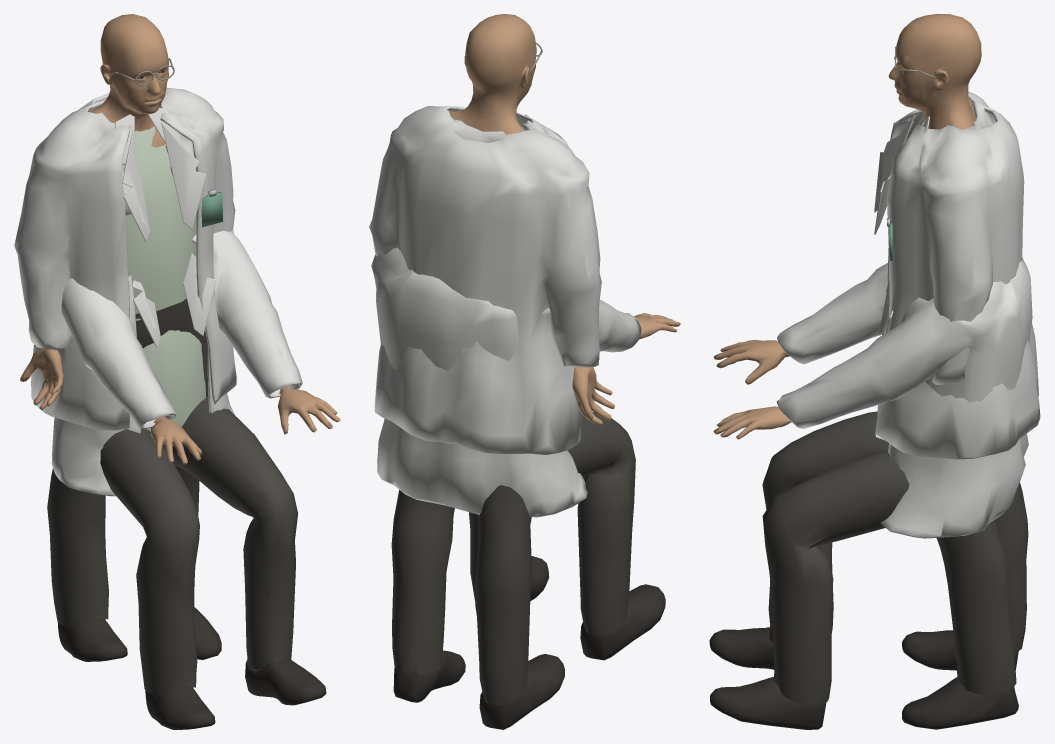
File: doctor-08-middle.glb
The picture shows the model from 3 angles, left to right: view 1: azimuth 30°, elevation 25°; view 2: azimuth 150°, elevation 25°; view 3: azimuth 270°, elevation 25°; orthographic projection. The views are drawn at different scales.
Visible parts, largest first — view 1: Doctor anatomy and wardrobe.001, Doctor anatomy and wardrobe.003; view 2: Doctor anatomy and wardrobe.001, Doctor anatomy and wardrobe.003; view 3: Doctor anatomy and wardrobe.003, Doctor anatomy and wardrobe.001.
Boxes of the visible parts, x1,y1,x2,y2 form: Doctor anatomy and wardrobe.001: [14, 14, 236, 661]; Doctor anatomy and wardrobe.003: [51, 228, 340, 729]; Doctor anatomy and wardrobe.001: [369, 14, 614, 729]; Doctor anatomy and wardrobe.003: [371, 247, 680, 660]; Doctor anatomy and wardrobe.003: [709, 257, 1032, 729]; Doctor anatomy and wardrobe.001: [874, 14, 1040, 729].
Size of the model in its own units: 0.612 by 1.75 by 0.7782.
